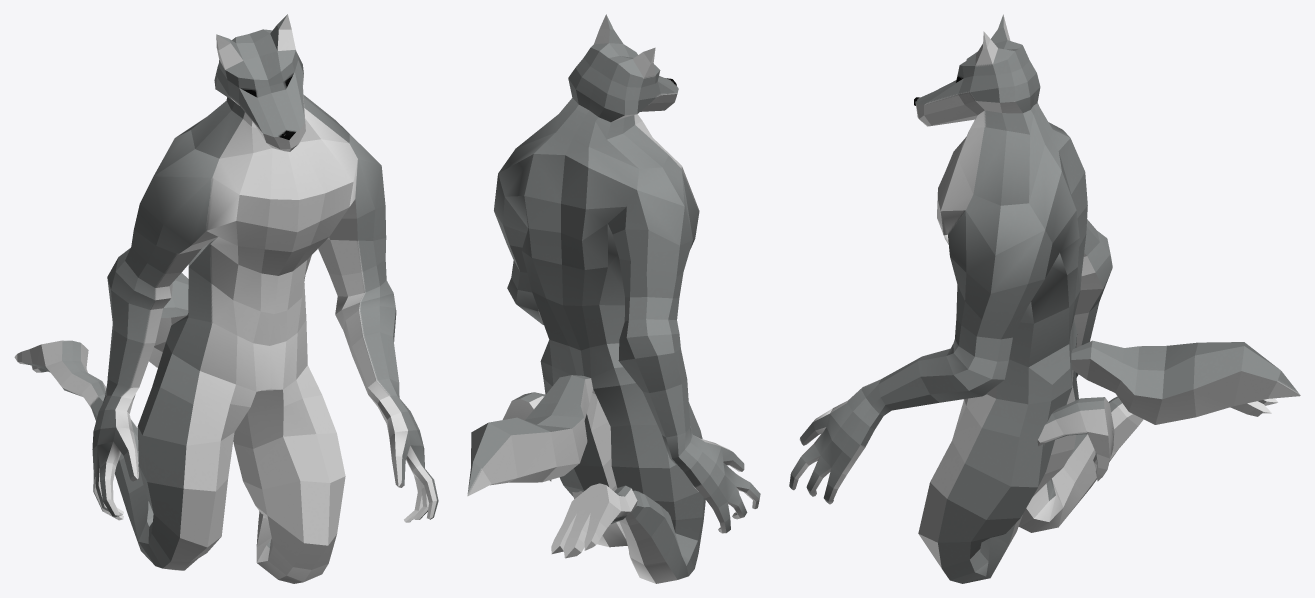
Rendered from WolfDead(39).obj.
The picture shows the model from 3 angles, left to right: view 1: azimuth 30°, elevation 25°; view 2: azimuth 150°, elevation 25°; view 3: azimuth 270°, elevation 25°; orthographic projection. The views are drawn at different scales.
Visible parts, largest first — view 1: Box001; view 2: Box001; view 3: Box001.
Boxes of the visible parts, <box> form: Box001: <box>14,14,438,583</box>; Box001: <box>467,14,760,583</box>; Box001: <box>789,14,1300,583</box>.
Bounding box in the file's own units: 62.37 × 122 × 103.
